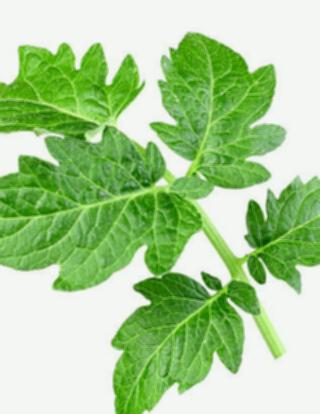Tomato leaf: (0, 127, 203, 313), (143, 6, 280, 212), (0, 9, 164, 177), (96, 248, 260, 414), (241, 173, 320, 303)
